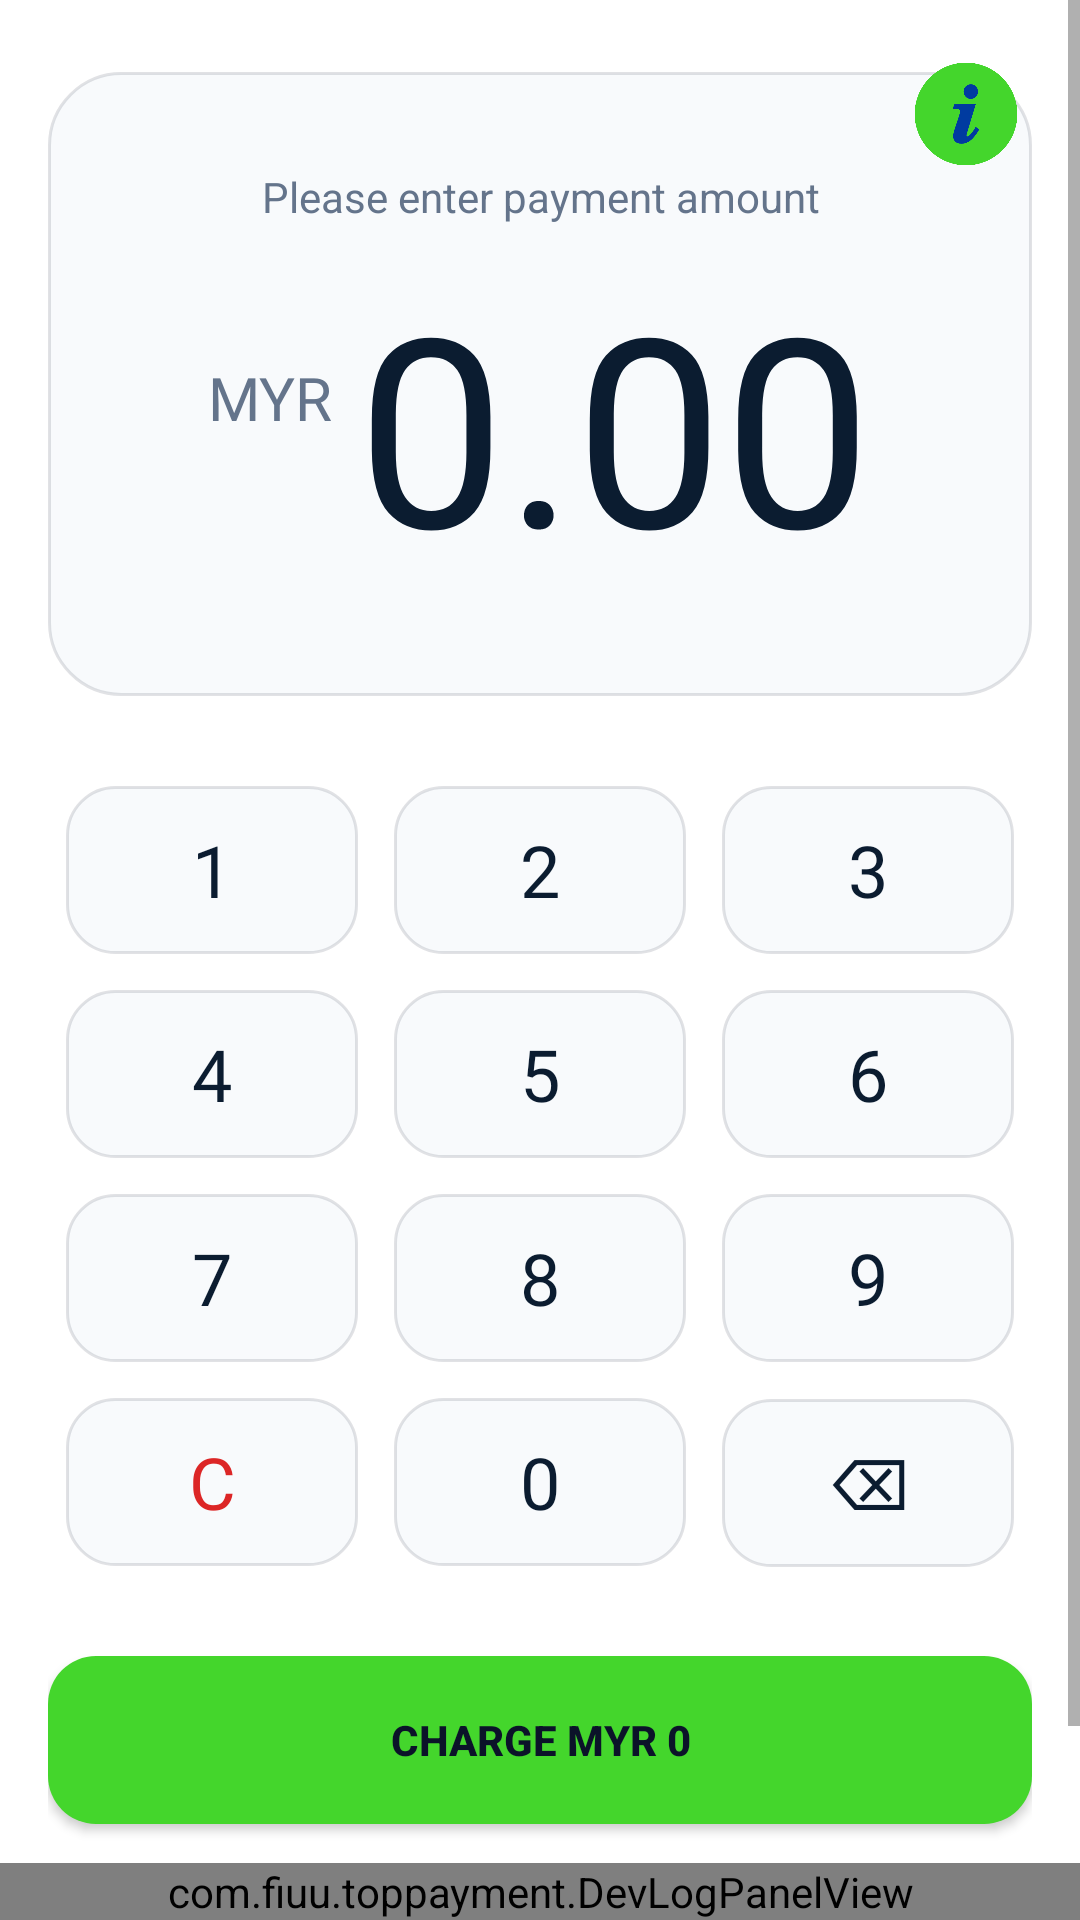

Icons on this 1080w x 1920h Android screen, each with its box as (x1, y1, x2, y2):
Info: (876, 63, 1032, 204)
